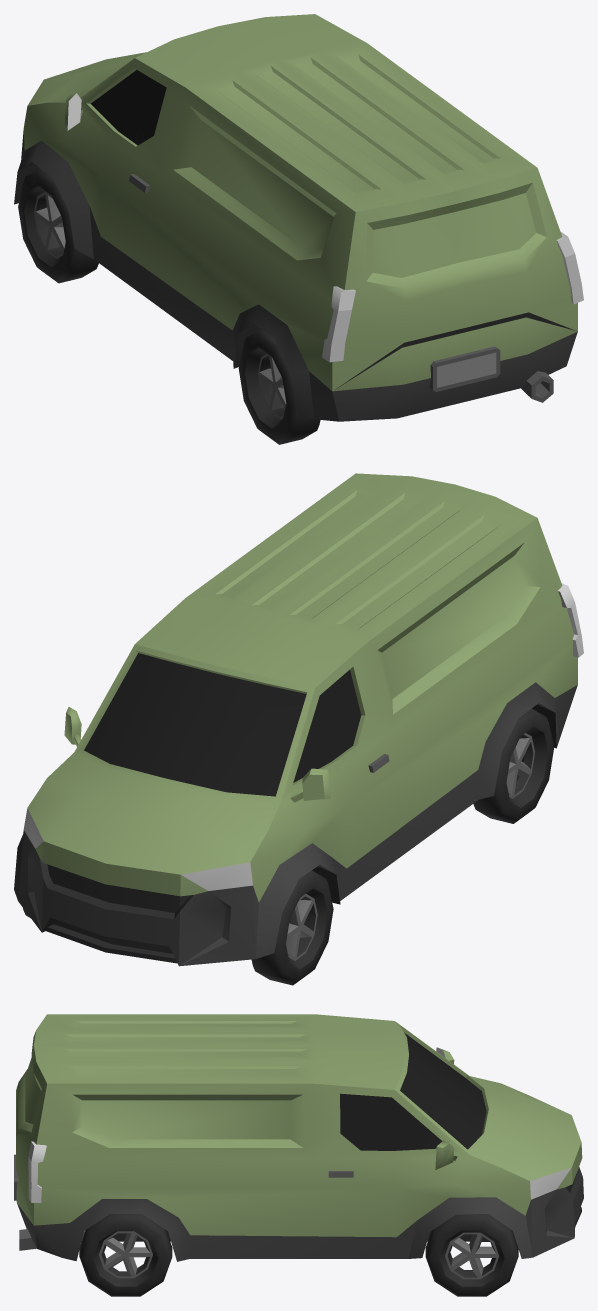
The model's file is van.obj.
3 renders of one model, top to bottom at view 1: azimuth 30°, elevation 25°; view 2: azimuth 150°, elevation 25°; view 3: azimuth 270°, elevation 25°, orthographic. The views are drawn at different scales.
Visible parts, largest first — view 1: van, wheel1.016, wheel1.011; view 2: van, wheel1.011, wheel1.016; view 3: van, wheel1.001, wheel1.002.
Boxes of the visible parts, x1,y1,x2,y2 form: van: (14,14,583,421); wheel1.016: (238,329,320,444); wheel1.011: (18,168,98,283); van: (14,473,583,966); wheel1.011: (251,870,333,985); wheel1.016: (473,708,553,823); van: (14,1014,583,1261); wheel1.001: (425,1214,518,1296); wheel1.002: (79,1214,172,1296).
Bounding box in the file's own units: 2.12 × 1.96 × 4.98.
4 materials, 3 textured.
